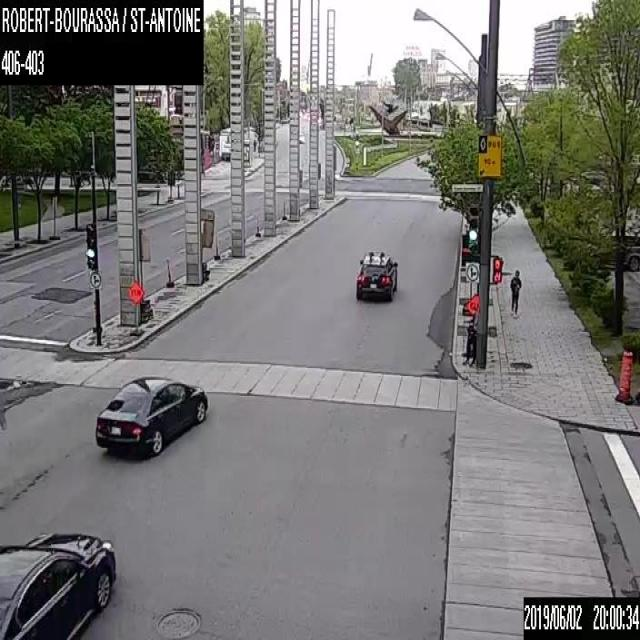construction: (137, 228, 153, 320), (199, 208, 214, 280), (125, 278, 144, 334), (616, 348, 632, 406), (464, 290, 479, 318)
pedestrian: (509, 270, 521, 318), (462, 326, 471, 365), (469, 324, 477, 367), (252, 138, 256, 150)
vehicle: (0, 529, 116, 638), (95, 375, 207, 455), (355, 250, 397, 302), (298, 132, 304, 142)
